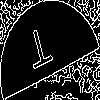T: (25, 25, 56, 79)
